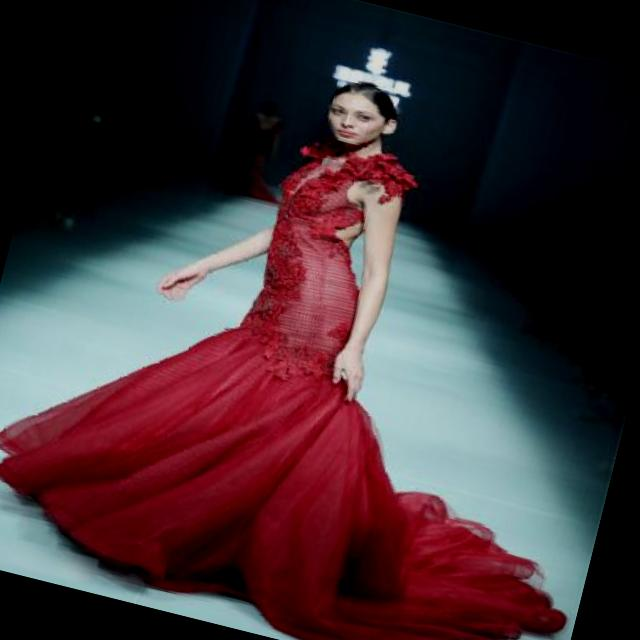Person: (55, 33, 492, 640)
